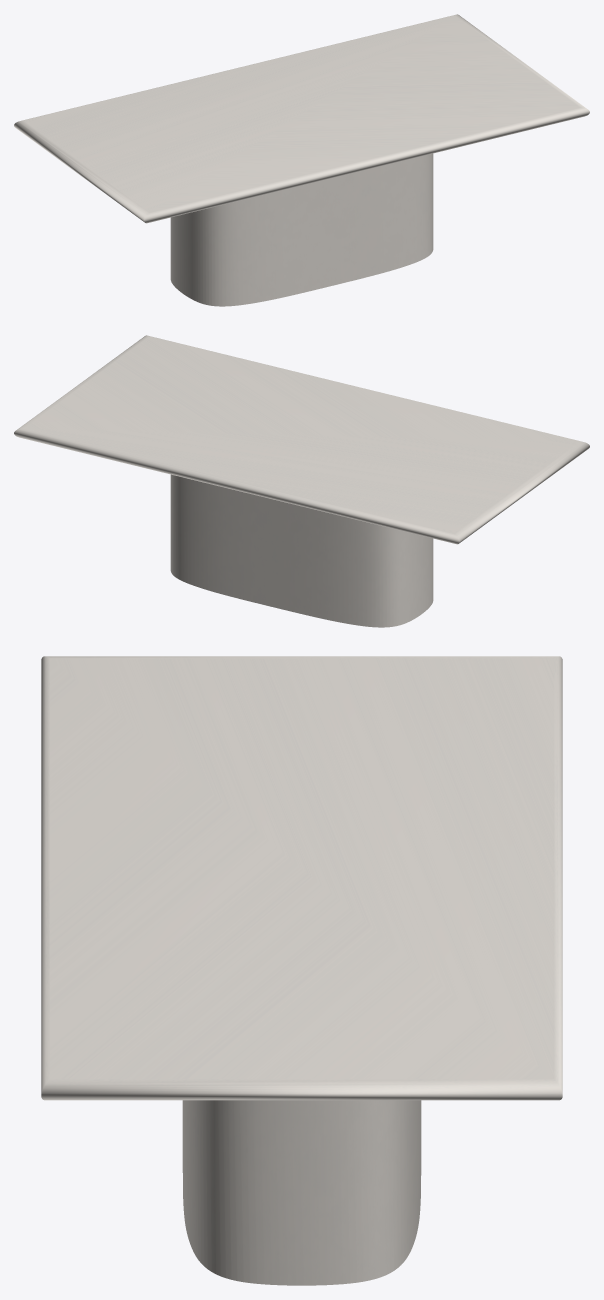
File: pearlwhite_recta_round_fixed.glb
3 renders of one model, top to bottom at view 1: azimuth 30°, elevation 25°; view 2: azimuth 150°, elevation 25°; view 3: azimuth 270°, elevation 25°, orthographic. The views are drawn at different scales.
Parts seen in each view (by area): view 1: round_recta, fixed; view 2: round_recta, fixed; view 3: round_recta, fixed.
Boxes of the visible parts, box(x1,y1,x2,y2) form: round_recta: box(14, 14, 589, 223); fixed: box(170, 153, 433, 306); round_recta: box(14, 335, 589, 544); fixed: box(170, 474, 433, 627); round_recta: box(41, 656, 562, 1100); fixed: box(182, 1100, 421, 1285).
Size of the model in its own units: 7.76 by 2.5 by 3.93.
Materials: 1 (1 with a texture image).
